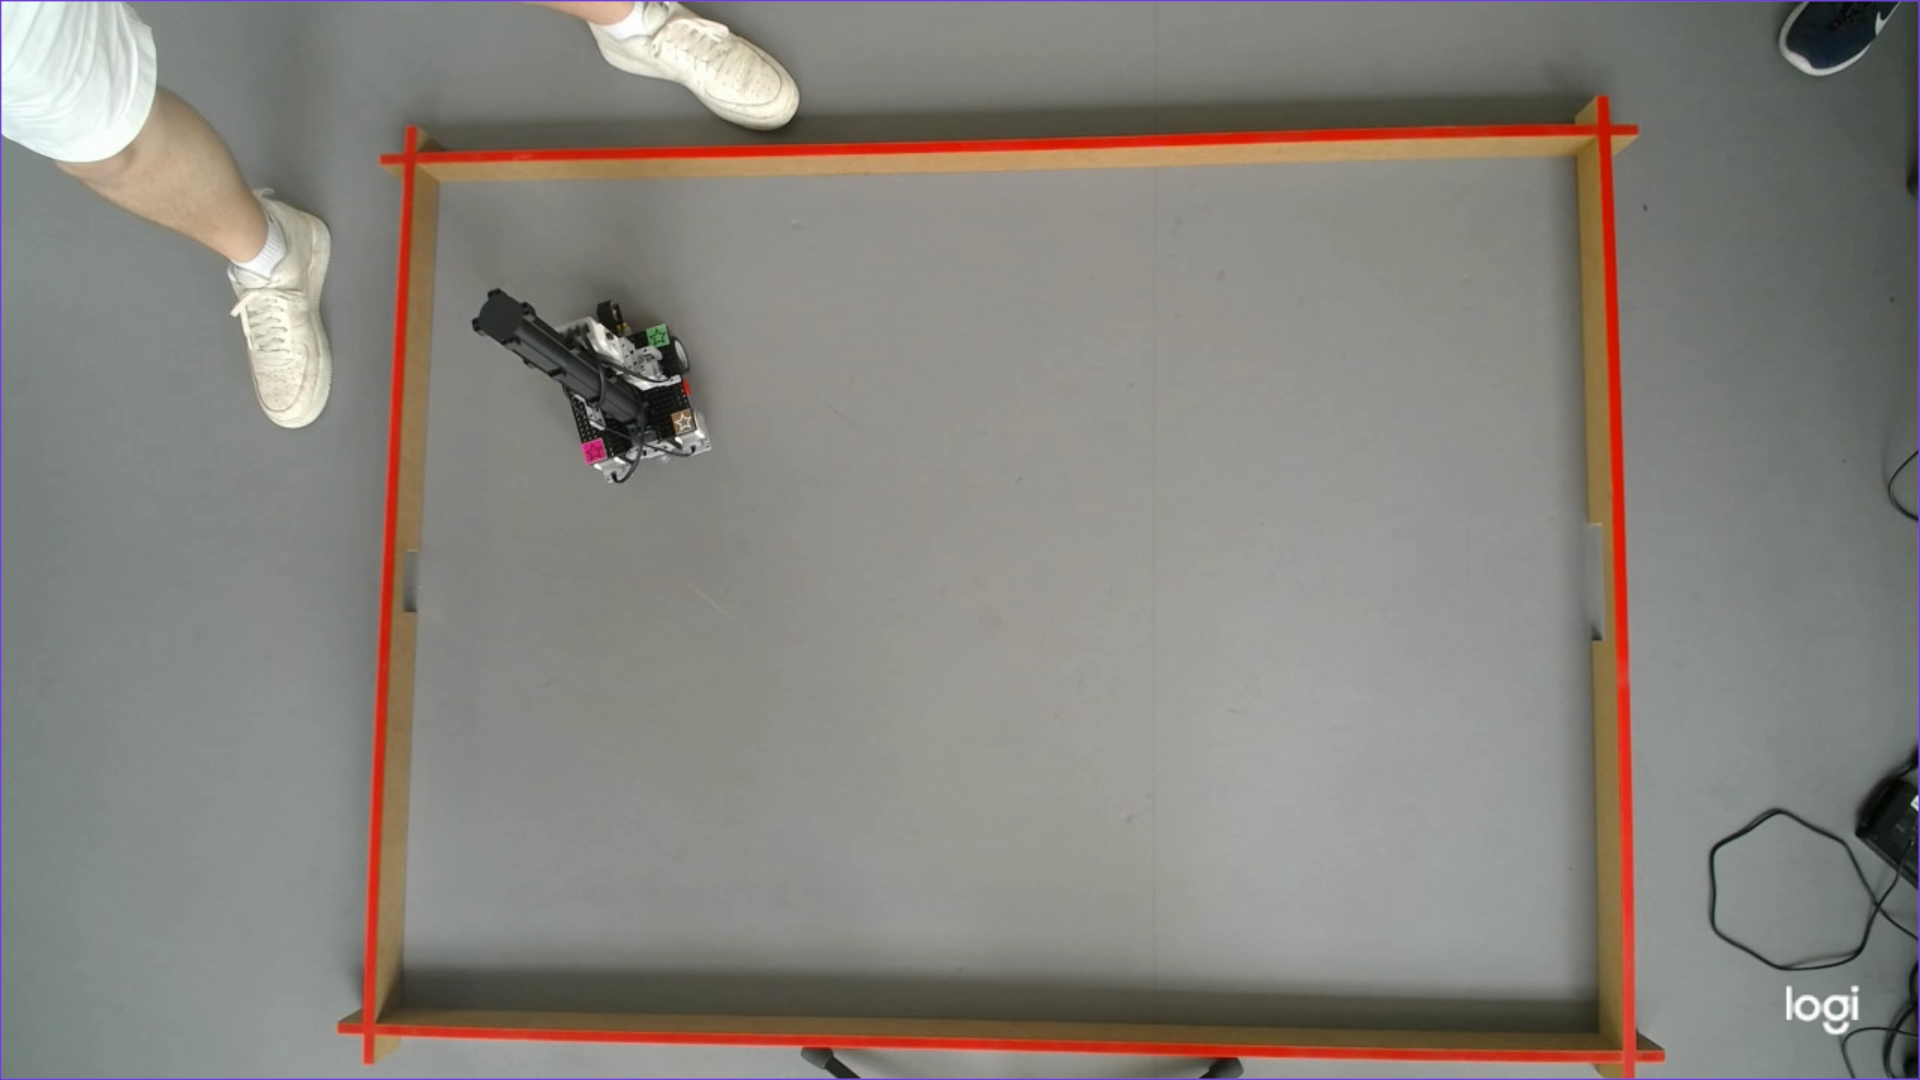corner_brown: (670, 411, 699, 435)
corner_green: (645, 323, 669, 347)
corner_pink: (580, 438, 607, 464)
playfield: (348, 132, 1643, 1073)
playfield_corner: (396, 136, 433, 175), (1589, 109, 1626, 149), (1613, 1035, 1650, 1075), (351, 1005, 388, 1044)
